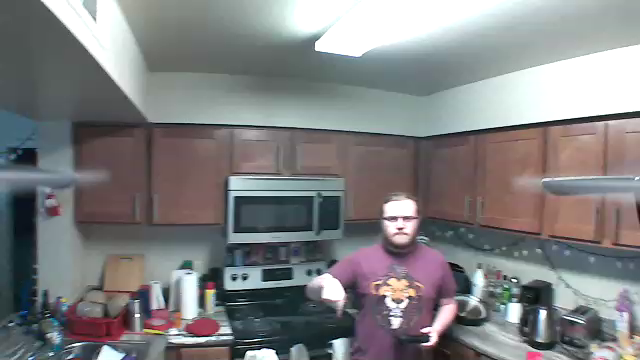down: (318, 270, 348, 321)
